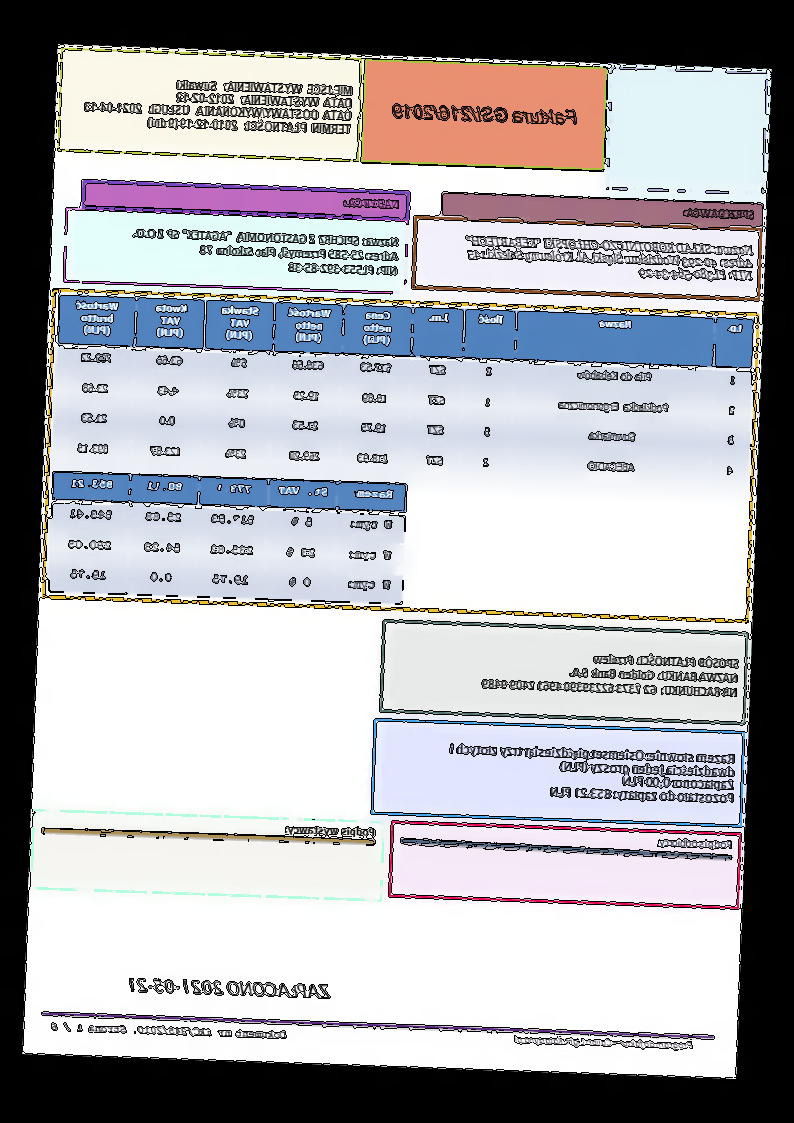Table: (53, 293, 756, 492), (48, 471, 408, 605)
TextBox: (446, 741, 737, 806), (83, 73, 354, 136), (461, 234, 756, 284), (130, 227, 400, 277), (481, 647, 740, 699), (127, 974, 334, 1004), (49, 1020, 290, 1042), (392, 101, 580, 127), (512, 1033, 695, 1053), (283, 822, 378, 840), (656, 835, 735, 853), (683, 205, 757, 221), (343, 196, 401, 211)
